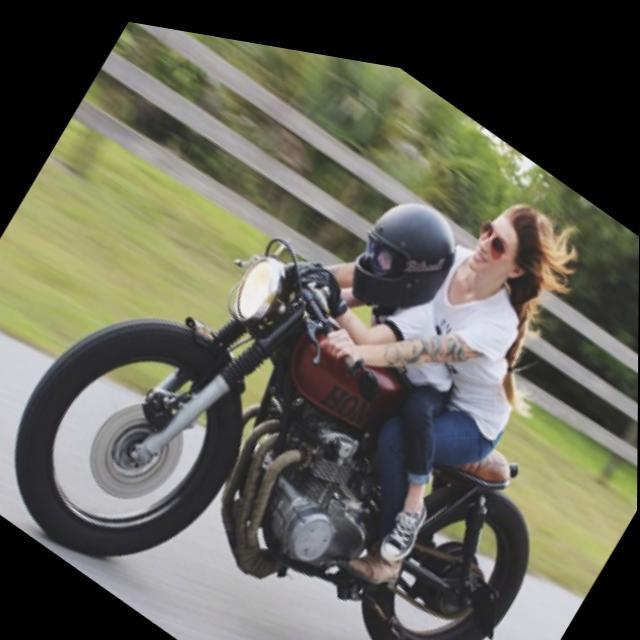Nonhelmet: (459, 189, 563, 309)
